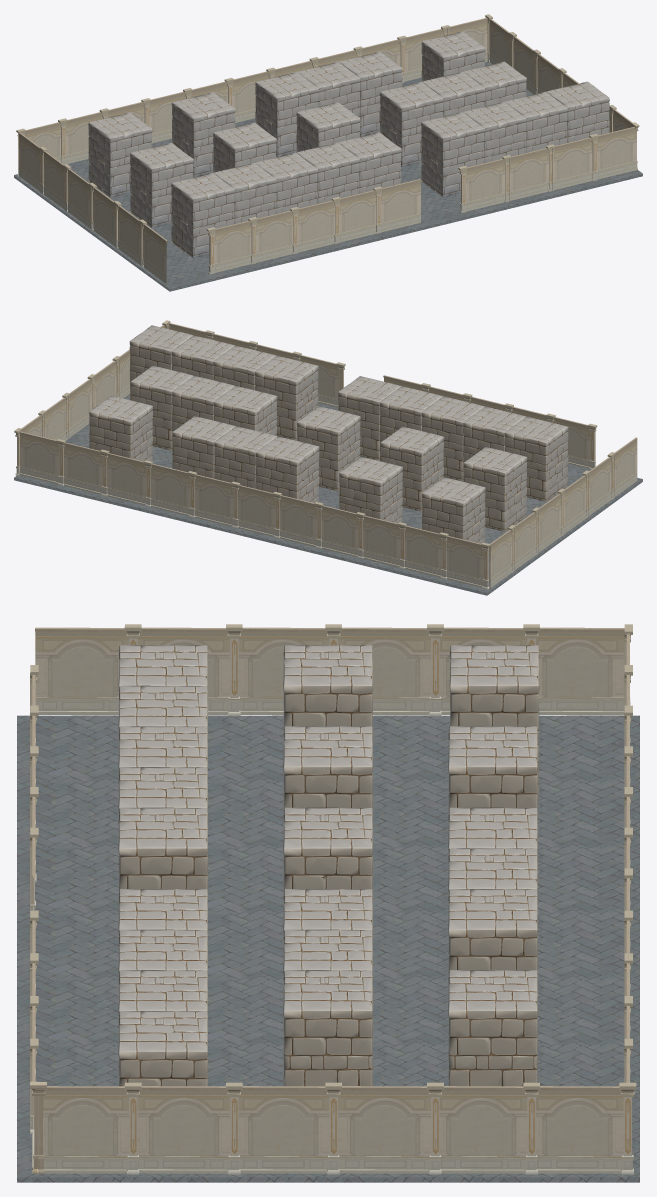
Rendered from map4.glb.
3 views of the same model, one above another, from view 1: azimuth 30°, elevation 25°; view 2: azimuth 150°, elevation 25°; view 3: azimuth 270°, elevation 25° (orthographic). The views are drawn at different scales.
Parts seen in each view (by area): view 1: tripo_node_31ce2f94-d425-4ca1-85f7-3b87e49a0e99.002, Annex's Golden Mosaic - Room A.001, Foundations of Stone: Grand Design.023; view 2: tripo_node_31ce2f94-d425-4ca1-85f7-3b87e49a0e99.002, Annex's Golden Mosaic - Room A.001, Foundations of Stone: Grand Design.023; view 3: Foundations of Stone: Grand Design.023, tripo_node_31ce2f94-d425-4ca1-85f7-3b87e49a0e99.002, Annex's Golden Mosaic - Room A.001.
Part boxes in pixels (bbox=[...]): tripo_node_31ce2f94-d425-4ca1-85f7-3b87e49a0e99.002: bbox=[88, 31, 609, 258]; Annex's Golden Mosaic - Room A.001: bbox=[16, 14, 639, 283]; Foundations of Stone: Grand Design.023: bbox=[14, 61, 642, 291]; tripo_node_31ce2f94-d425-4ca1-85f7-3b87e49a0e99.002: bbox=[89, 325, 568, 543]; Annex's Golden Mosaic - Room A.001: bbox=[14, 320, 637, 589]; Foundations of Stone: Grand Design.023: bbox=[14, 394, 642, 595]; Foundations of Stone: Grand Design.023: bbox=[17, 715, 639, 1182]; tripo_node_31ce2f94-d425-4ca1-85f7-3b87e49a0e99.002: bbox=[118, 645, 539, 1086]; Annex's Golden Mosaic - Room A.001: bbox=[30, 624, 636, 1174].
Size of the model in its own units: 7.97 by 1 by 4.54.
7 materials, 7 textured.
